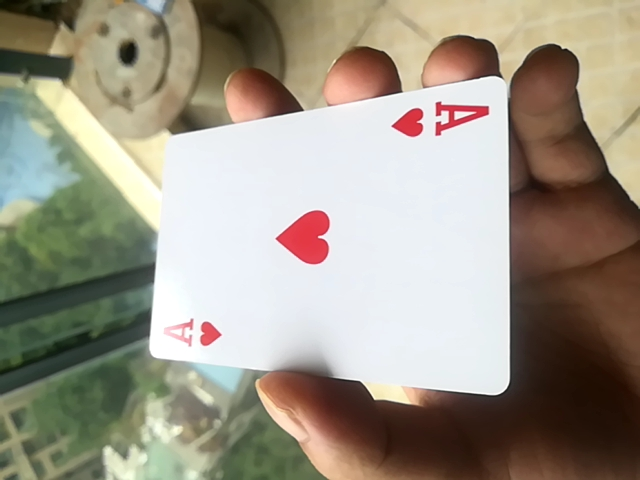hx a: (142, 78, 511, 396)
